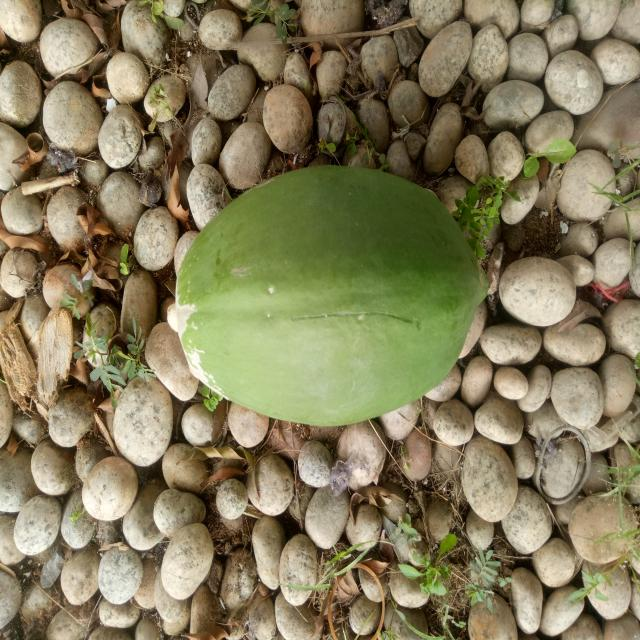Pepaya unrippen: (174, 168, 493, 426)
